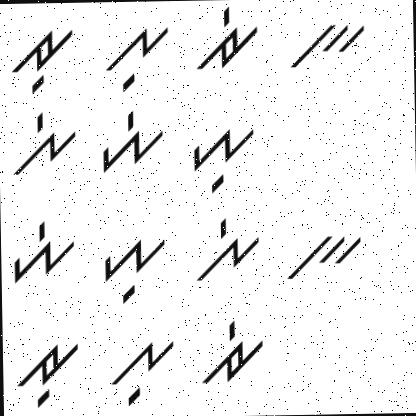le: (186, 214, 266, 288), (6, 110, 80, 176)
lu: (108, 331, 178, 408), (102, 21, 174, 94)
re: (192, 2, 262, 78), (195, 317, 268, 389)
ru: (13, 338, 84, 410), (7, 22, 76, 96)
ye: (179, 124, 260, 193), (92, 107, 168, 173), (3, 220, 78, 284)
yu: (97, 233, 167, 306)
